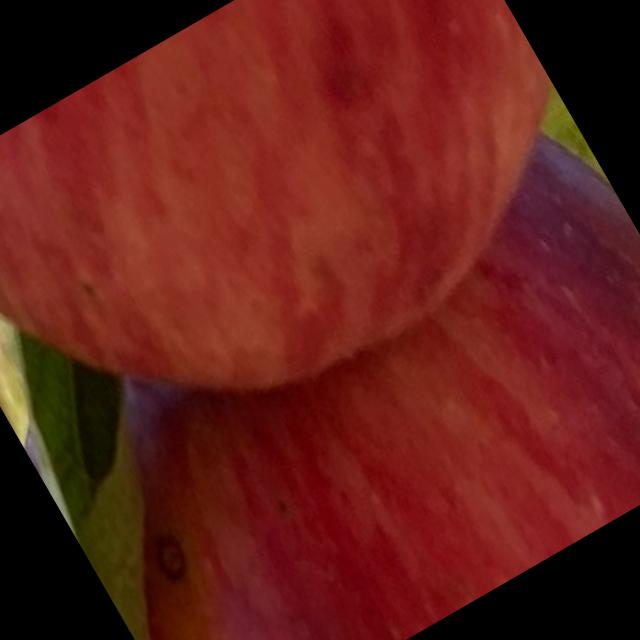Apples: (0, 0, 623, 526), (18, 118, 639, 639)
